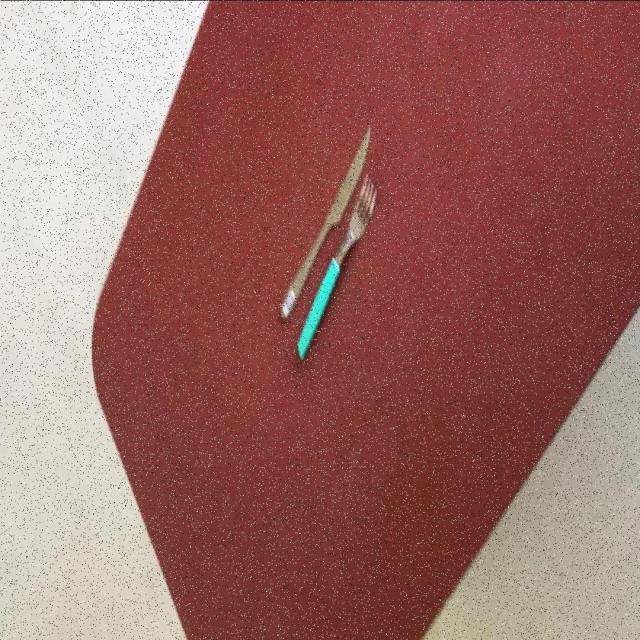Fork: (296, 170, 378, 359)
Knife: (277, 122, 371, 321)
